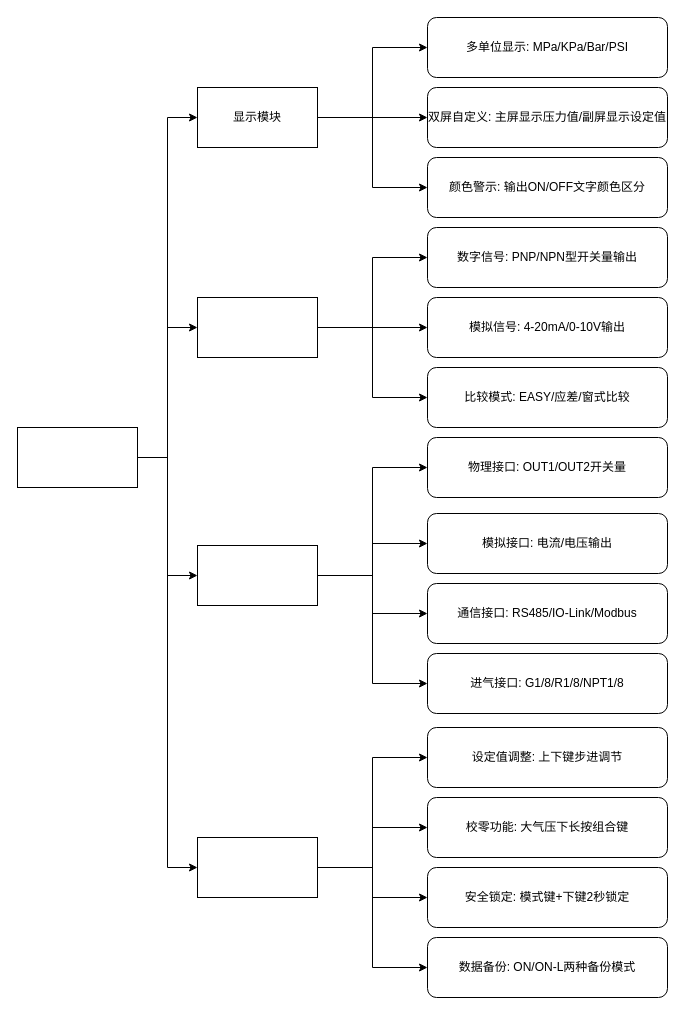
Image size: 685x1015. Some labels were removed from this diagram. The centre of each missing label's shape, as x and y in pixels:
接口模块: point (257, 575)
核心功能: point (77, 457)
设置与操作: point (257, 867)
输出模块: point (257, 327)
